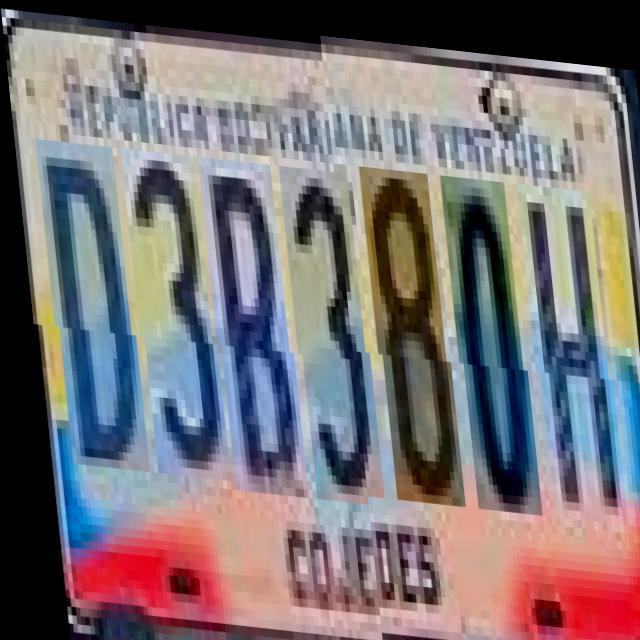3: (122, 146, 221, 477), (280, 160, 376, 499)
8: (361, 167, 456, 506)
B: (198, 153, 298, 492)
D: (37, 138, 140, 470)
H: (518, 181, 618, 520)
O: (442, 174, 533, 513)
